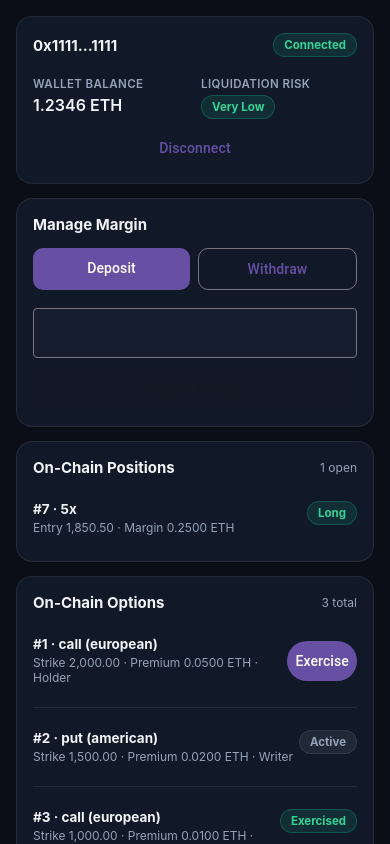
Test: margin and transactions › prepares, signs and confirms a deposit, then reloads
The image size is (390, 844).
Expected: the text "1.2346 ETH" is shown, [33,95,122,115]
In the field with test id "text-input-outlined": (195, 334) [33,310,357,358], type "0.5"
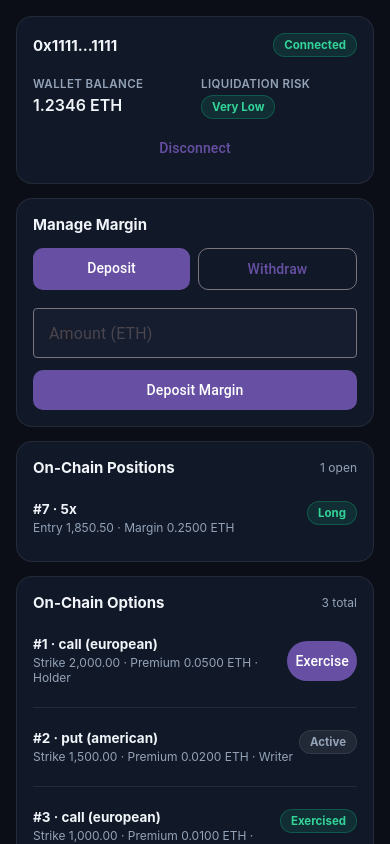
Click the button "Deposit Margin": (195, 390) [33,370,357,410]
Wait 2000 ms
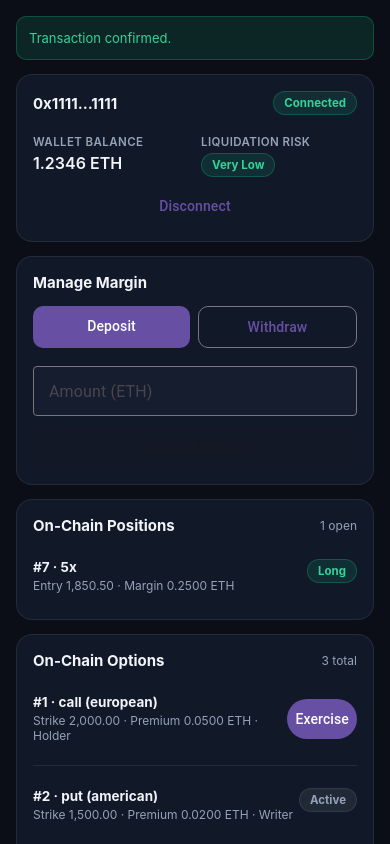
Expected: the text "Transaction confirmed." is shown, [29,30,171,46]
